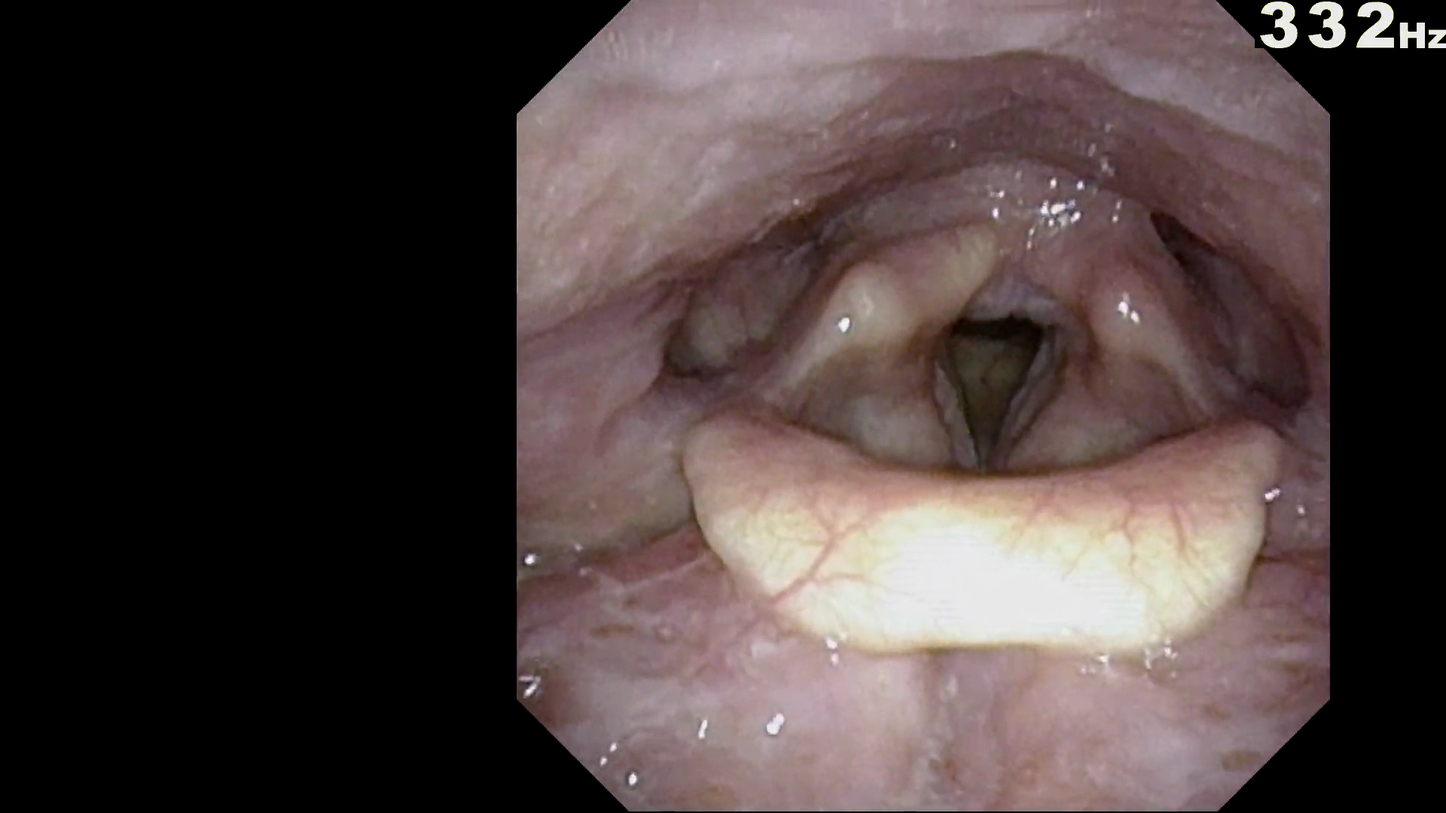epiglottis: (671, 396, 1297, 656)
trachea: (914, 287, 1094, 498)
